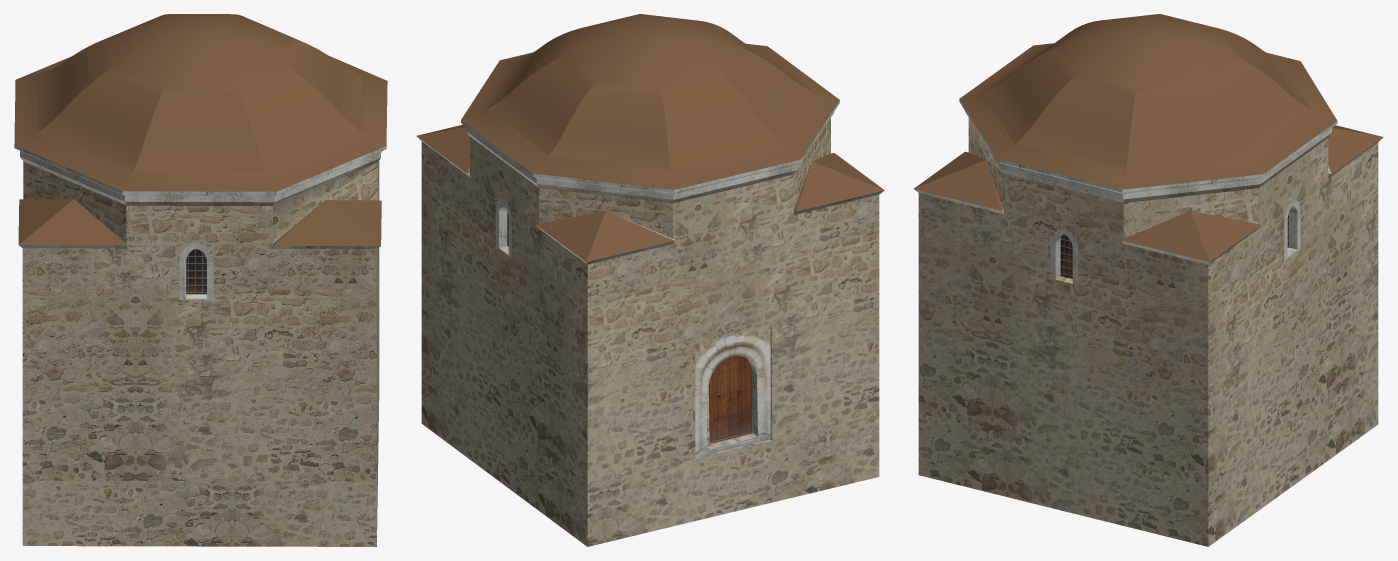
File: tekes.fbx
The picture shows the model from 3 angles, left to right: view 1: azimuth 30°, elevation 25°; view 2: azimuth 150°, elevation 25°; view 3: azimuth 270°, elevation 25°; orthographic projection. The views are drawn at different scales.
Visible parts, largest first — view 1: Model; view 2: Model; view 3: Model.
Boxes of the visible parts, x1=… form: Model: x1=14, y1=14, x2=387, y2=546; Model: x1=416, y1=14, x2=884, y2=546; Model: x1=914, y1=14, x2=1383, y2=546.
Bounding box in the file's own units: 12330 × 12148 × 12330.
